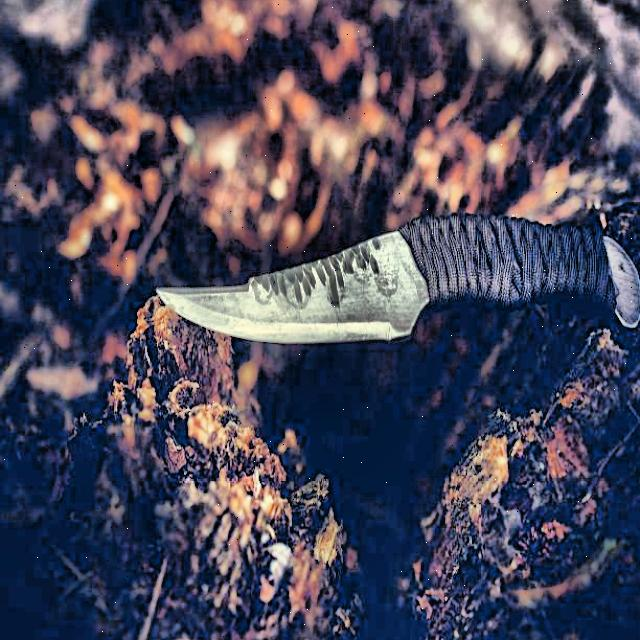knife: (157, 214, 640, 350)
